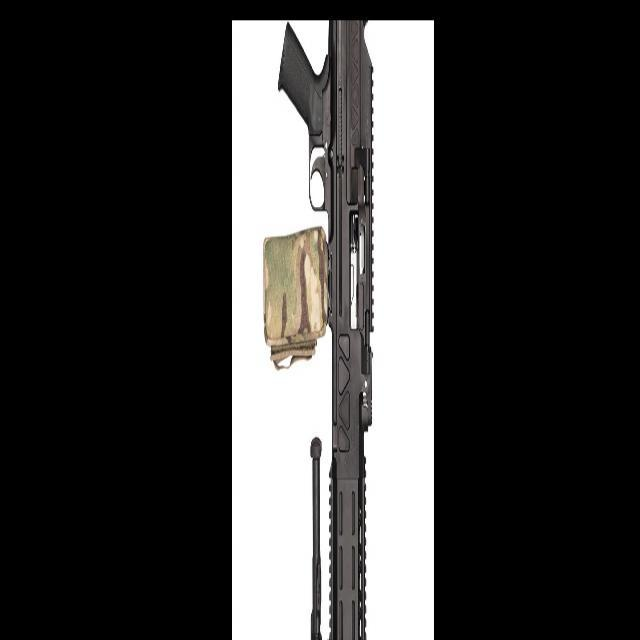weapon: (262, 20, 374, 640)
